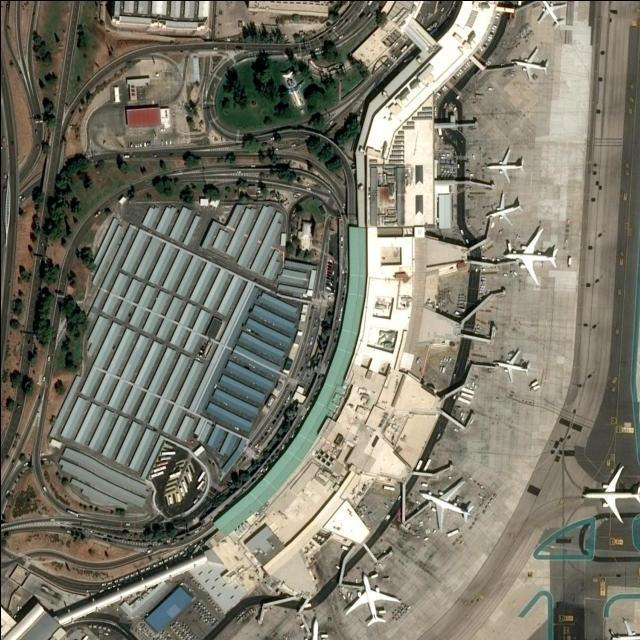Aircraft: (579, 463, 640, 523), (498, 229, 556, 283), (418, 479, 476, 529), (343, 571, 397, 624), (483, 145, 527, 181), (482, 191, 522, 225), (512, 44, 549, 78), (492, 347, 526, 377), (535, 0, 567, 29)
